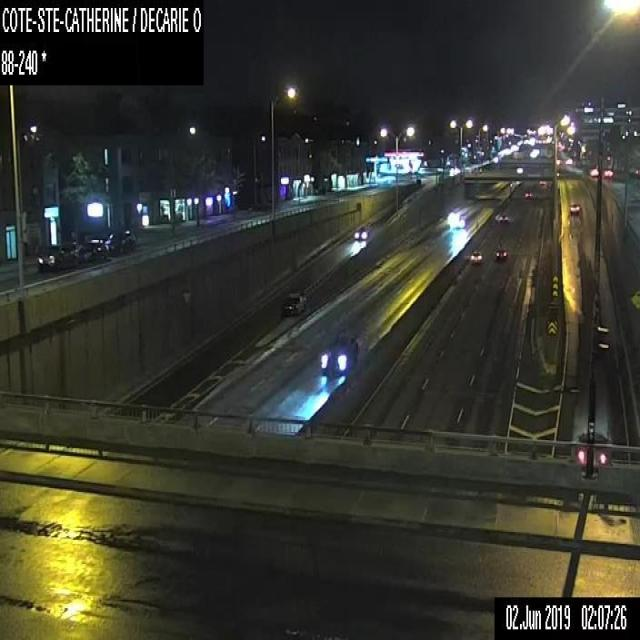vehicle: (319, 336, 358, 375), (36, 240, 80, 274), (575, 429, 610, 466), (105, 229, 136, 253), (78, 238, 105, 263), (280, 291, 305, 313), (353, 225, 369, 240), (469, 249, 481, 264), (494, 244, 506, 258), (569, 202, 580, 214), (603, 168, 613, 177), (498, 213, 507, 221), (525, 191, 531, 198)
